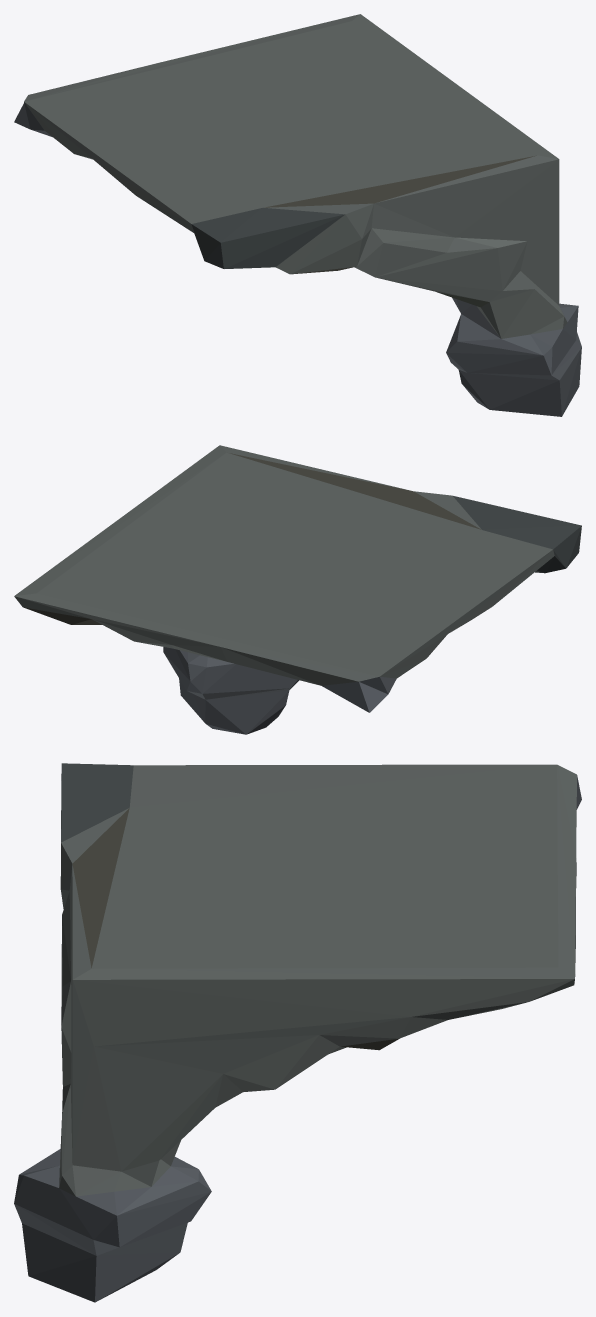
The model's file is MCastle_MasonryFixtures_14.FBX.
3 renders of one model, top to bottom at view 1: azimuth 30°, elevation 25°; view 2: azimuth 150°, elevation 25°; view 3: azimuth 270°, elevation 25°, orthographic. The views are drawn at different scales.
Parts seen in each view (by area): view 1: MCastle_MasonryFixtures_14_LOD0; view 2: MCastle_MasonryFixtures_14_LOD0; view 3: MCastle_MasonryFixtures_14_LOD0.
Part boxes in pixels (bbox=[...]): MCastle_MasonryFixtures_14_LOD0: bbox=[14, 14, 581, 416]; MCastle_MasonryFixtures_14_LOD0: bbox=[14, 445, 581, 734]; MCastle_MasonryFixtures_14_LOD0: bbox=[14, 763, 581, 1302].
Size of what is drawn, in the model's own units: 3.25 by 1.99 by 3.3.
